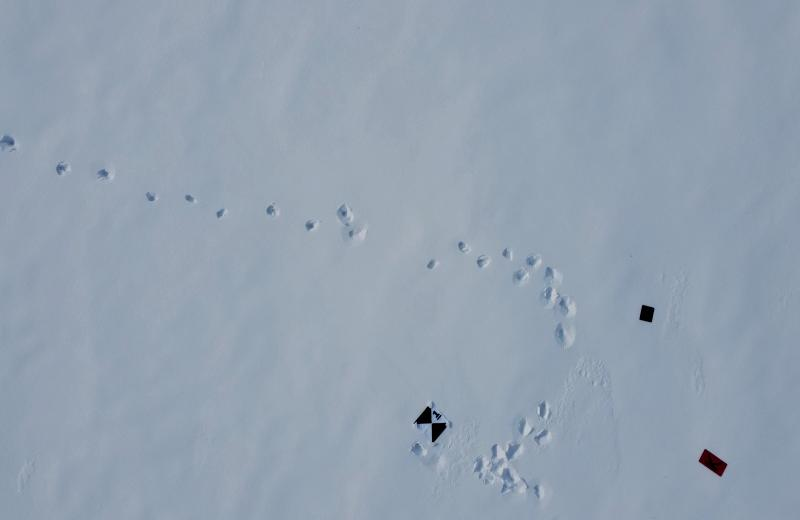Rectangle: (695, 444, 730, 481)
Square: (636, 301, 658, 325)
